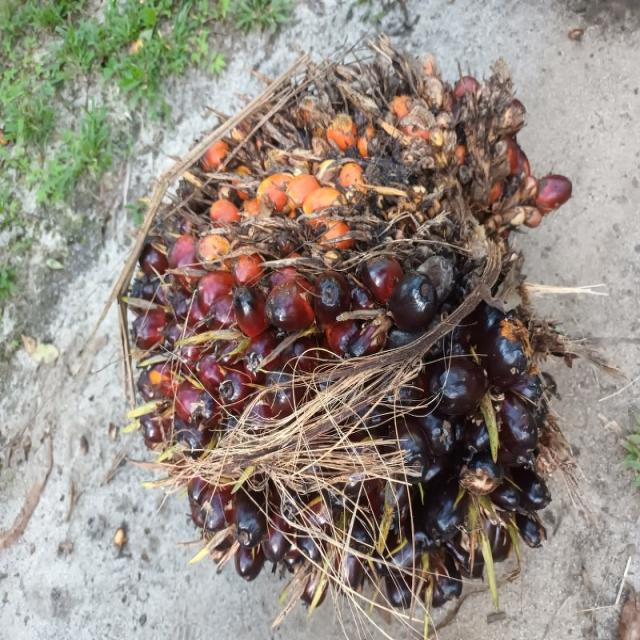fraksi 1: (110, 23, 571, 623)
